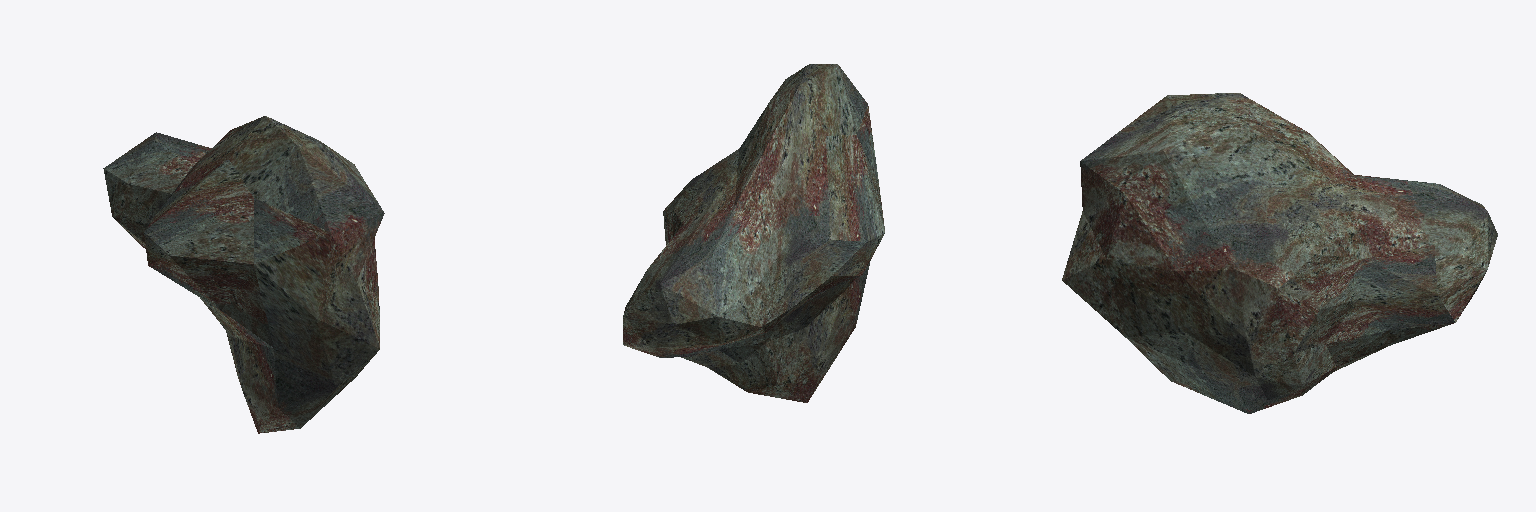
3 renders of one model, left to right at view 1: azimuth 30°, elevation 25°; view 2: azimuth 150°, elevation 25°; view 3: azimuth 270°, elevation 25°, orthographic.
Visible parts, largest first — view 1: fels3; view 2: fels3; view 3: fels3.
Boxes of the visible parts, <box> form: fels3: <box>103,116,384,433</box>; fels3: <box>623,64,884,402</box>; fels3: <box>1062,93,1497,413</box>.
Bounding box in the file's own units: 649 × 930 × 1164.
Materials: 1 (1 with a texture image).